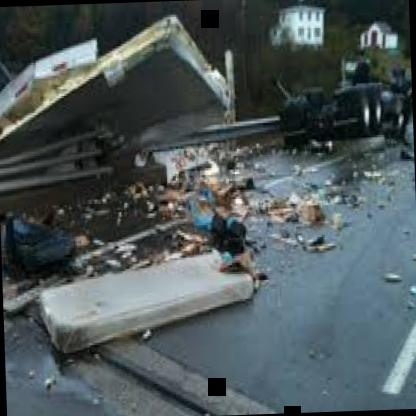accident: (5, 4, 414, 192)
